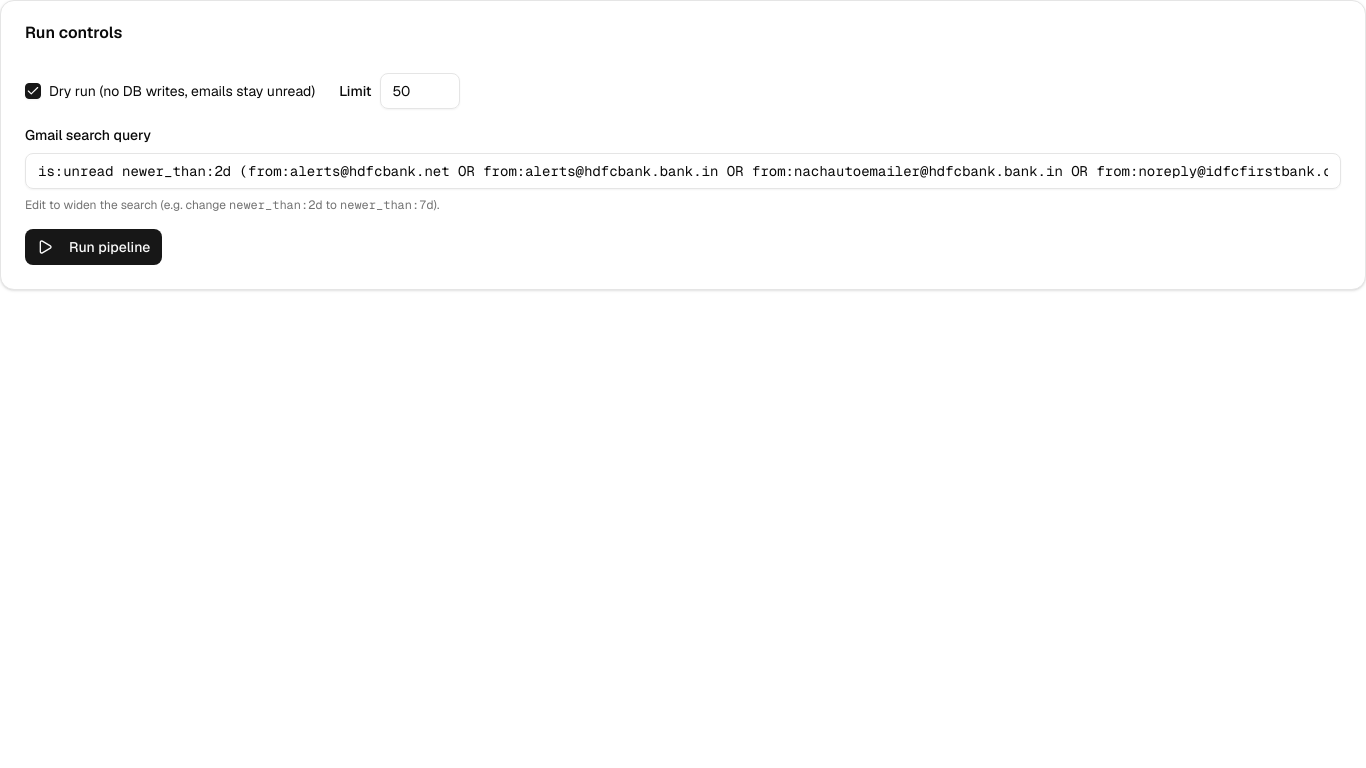
Scenario: DebugRunner › starts a run with dry_run/limit/query, then polls step until terminal
The width and height of the screenshot is (1366, 768).
Click the button "Run pipeline" at x=94, y=247, box [25,229,162,265]
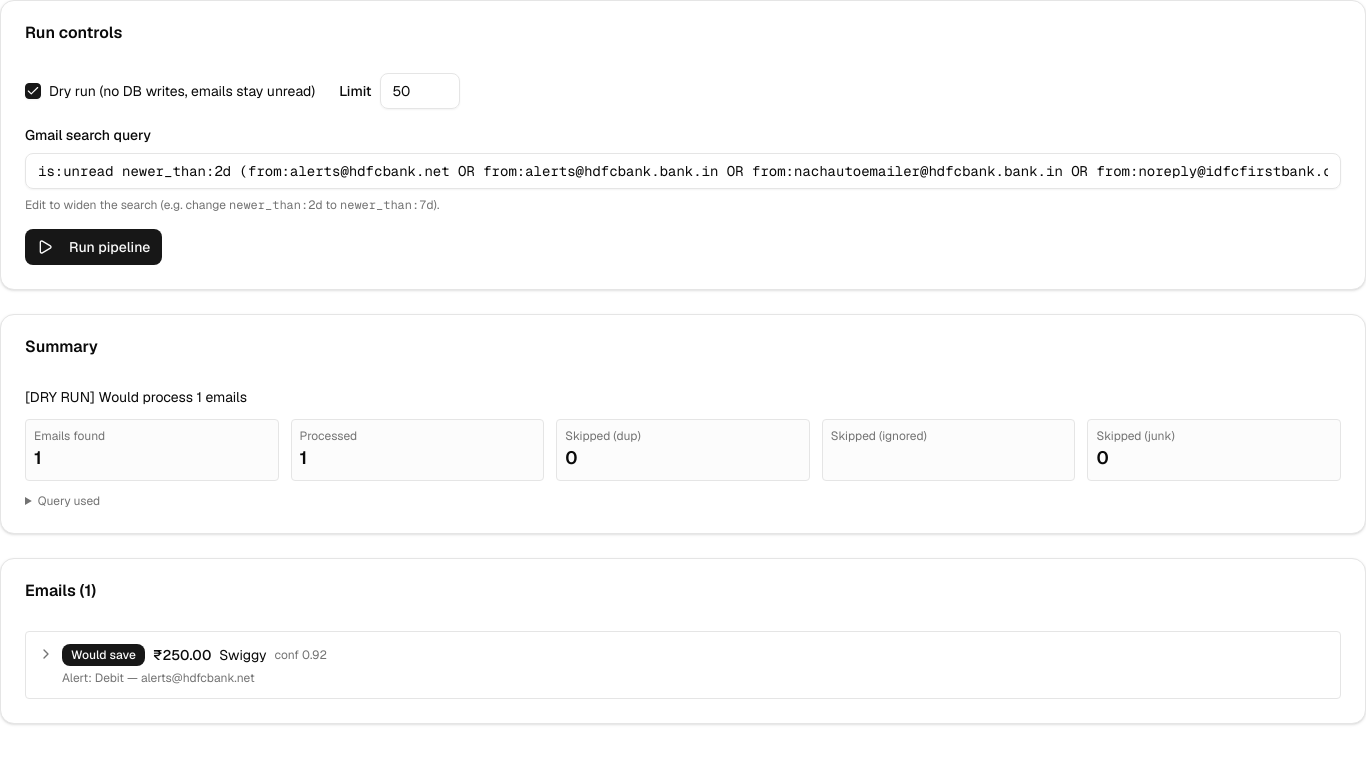
Now the text "[DRY RUN] Would process 1 emails" is shown, box [25,388,247,406]
